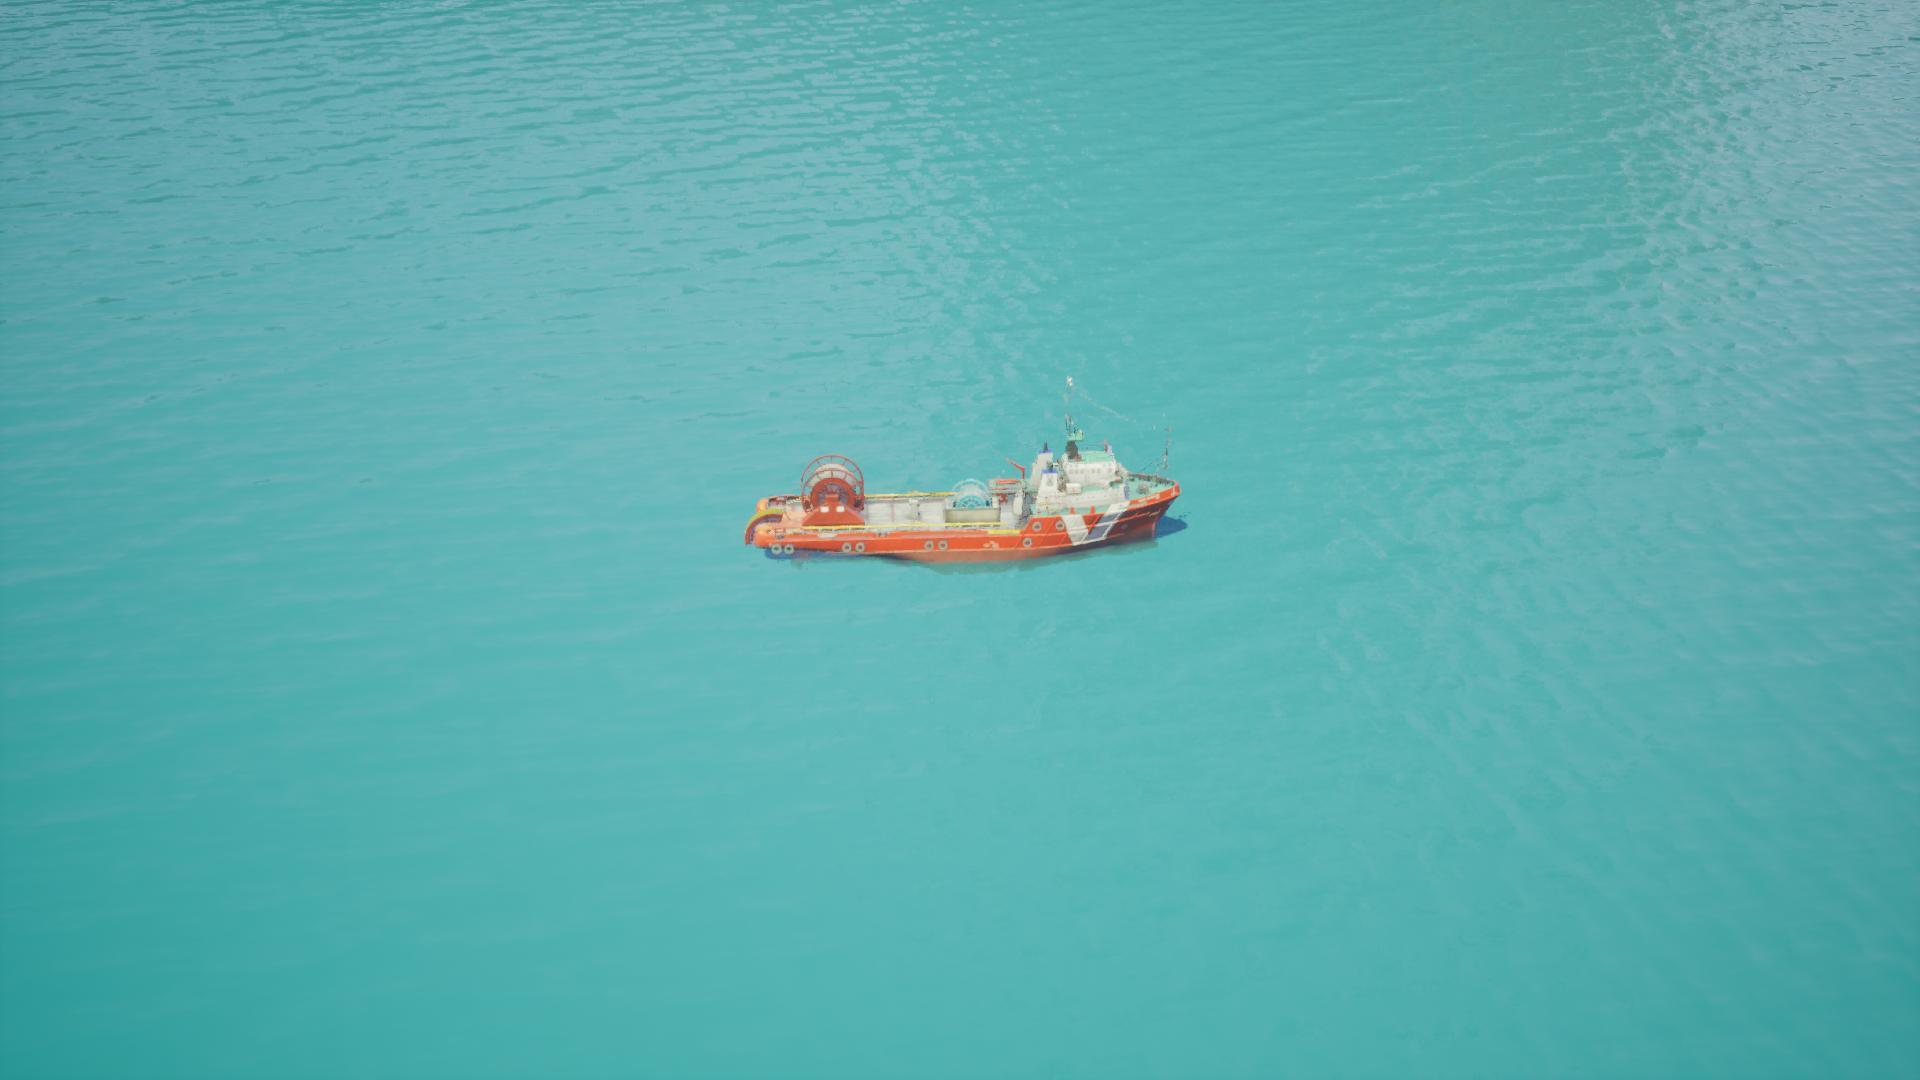Tug Boat: (748, 372, 1227, 638)
